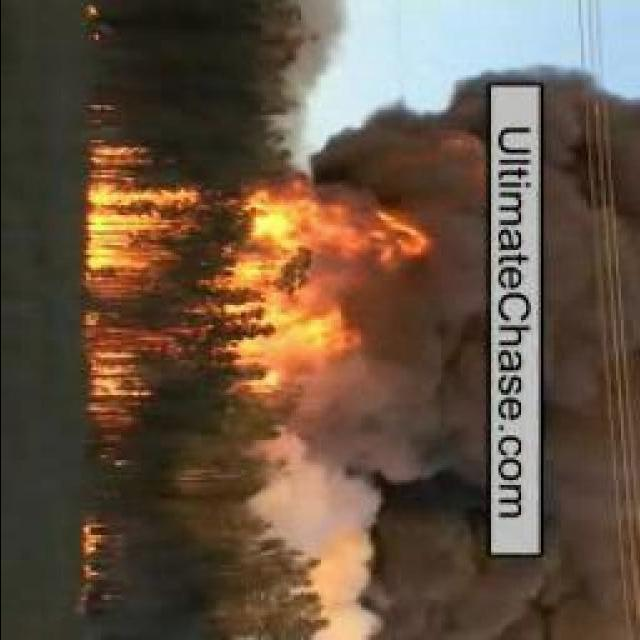Fire: (227, 198, 434, 414), (92, 123, 215, 468), (80, 514, 119, 600)
